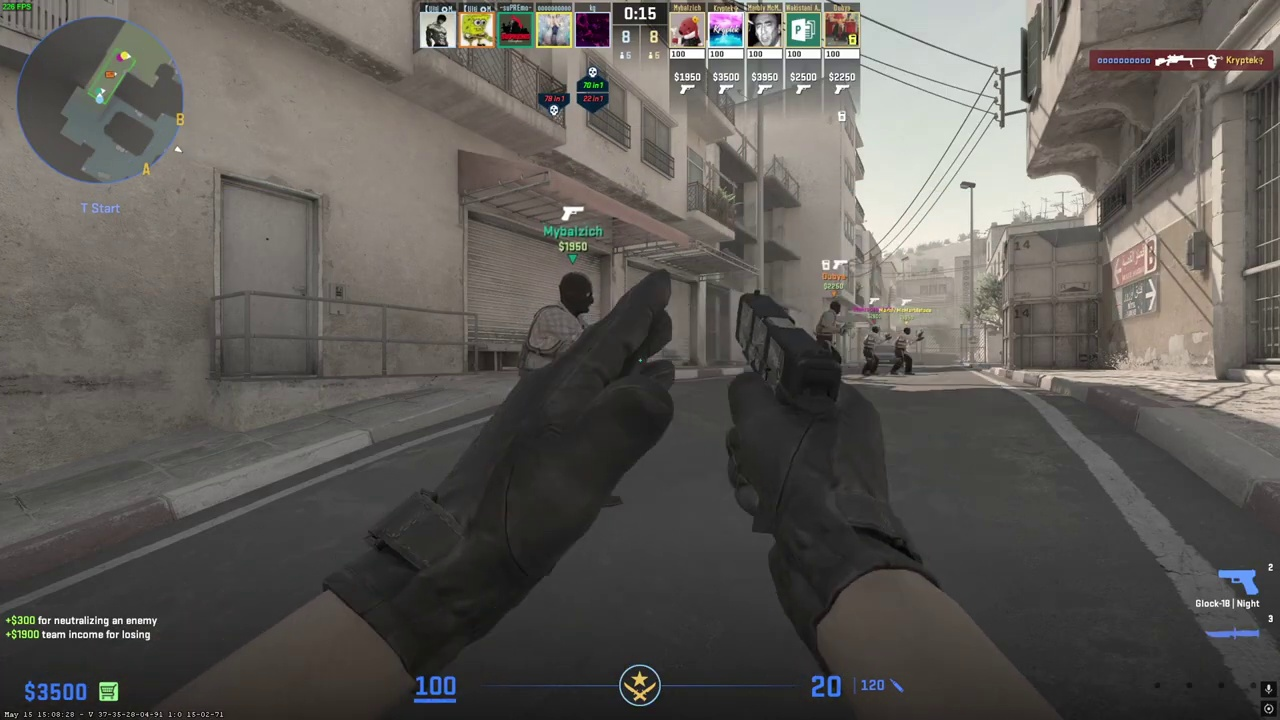Terrorist: (516, 272, 595, 375), (814, 301, 846, 363), (892, 328, 916, 376), (861, 326, 883, 375)
